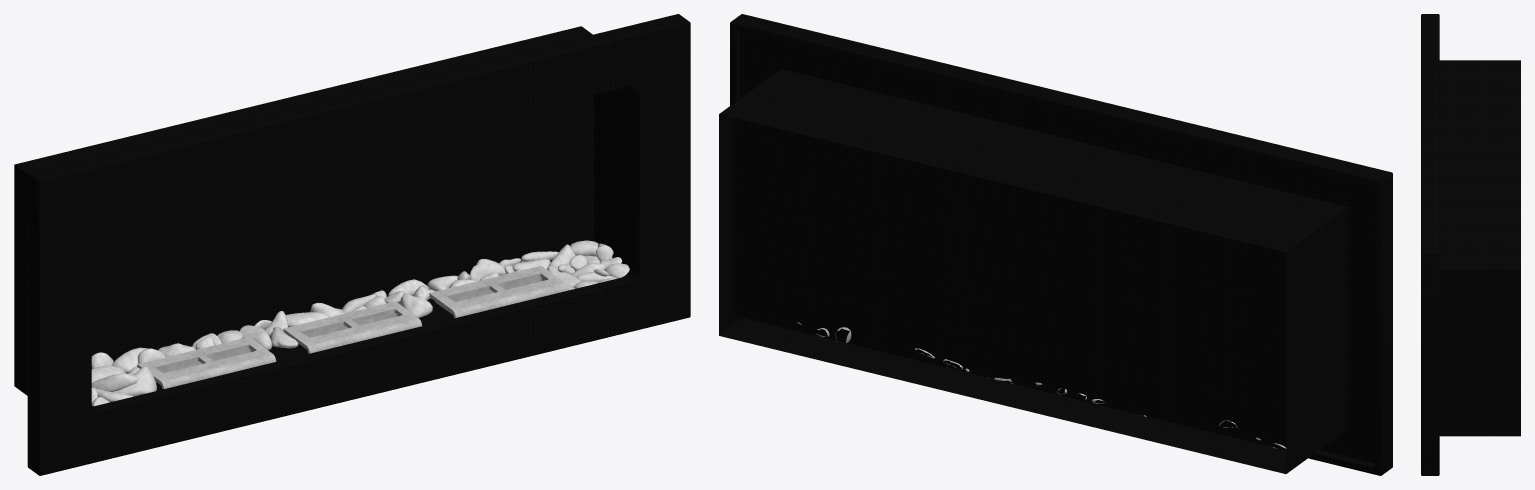
File: Bio_FirePlace.fbx
3 views of the same model, side by side, from view 1: azimuth 30°, elevation 25°; view 2: azimuth 150°, elevation 25°; view 3: azimuth 270°, elevation 25° (orthographic). The views are drawn at different scales.
Parts seen in each view (by area): view 1: Bio_FirePlace; view 2: Bio_FirePlace; view 3: Bio_FirePlace.
Boxes of the visible parts, left/top/right/bottom form: Bio_FirePlace: left=14, top=14, right=690, bottom=475; Bio_FirePlace: left=719, top=14, right=1392, bottom=475; Bio_FirePlace: left=1421, top=14, right=1520, bottom=475.
Size of the model in its own units: 2.61 by 0.4596 by 1.13.
